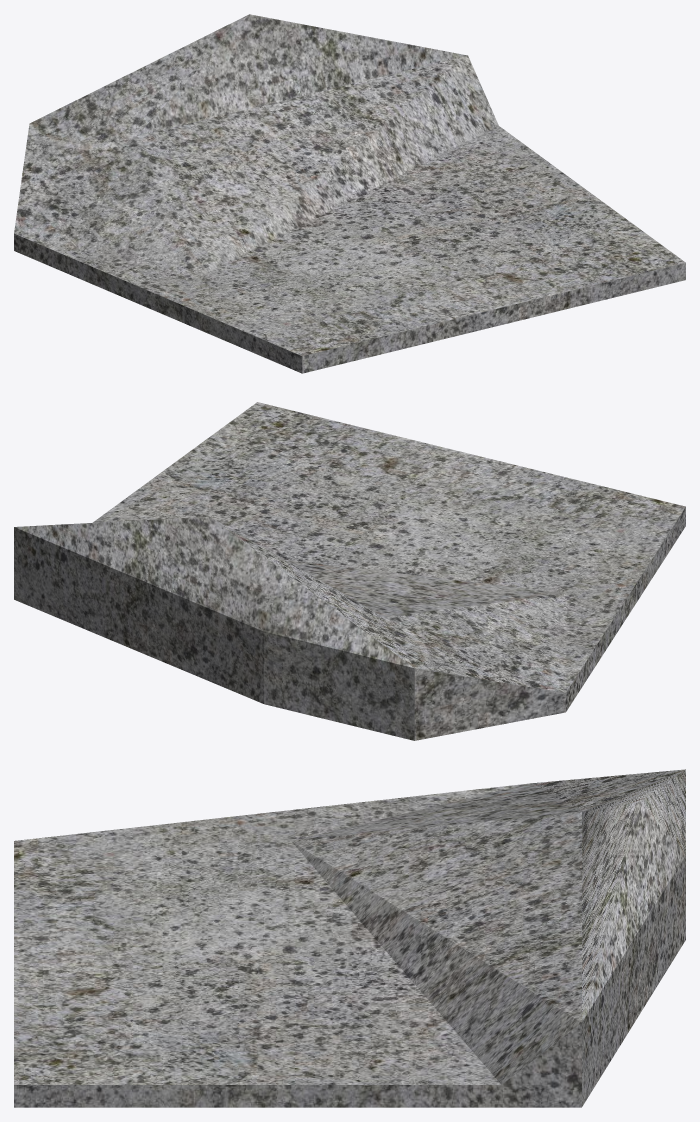
The model's file is room.glb.
The picture shows the model from 3 angles, top to bottom: view 1: azimuth 30°, elevation 25°; view 2: azimuth 150°, elevation 25°; view 3: azimuth 270°, elevation 25°; orthographic projection. The views are drawn at different scales.
Visible parts, largest first — view 1: TestBase; view 2: TestBase; view 3: TestBase.
Part boxes in pixels (x1,y1,x2,y2): TestBase: [14, 14, 685, 373]; TestBase: [14, 402, 685, 740]; TestBase: [14, 769, 685, 1107].
Size of the model in its own units: 21.35 by 5.95 by 20.12.
1 material, 1 textured.
